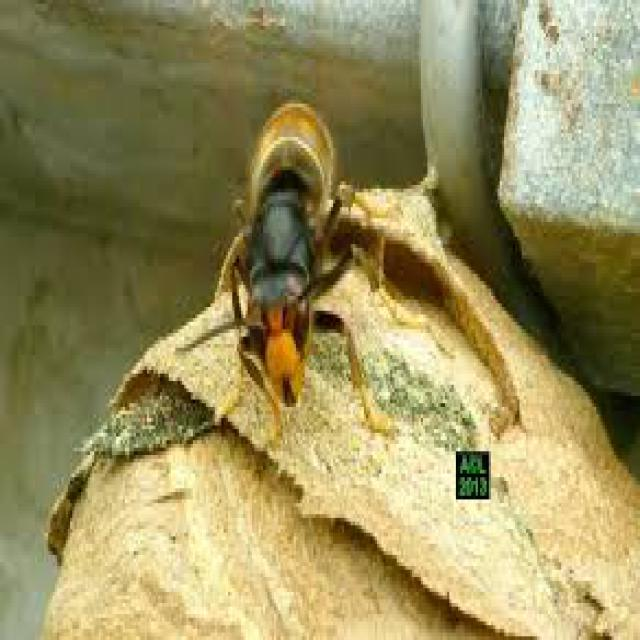Vespa Velutina: (199, 86, 393, 448)
